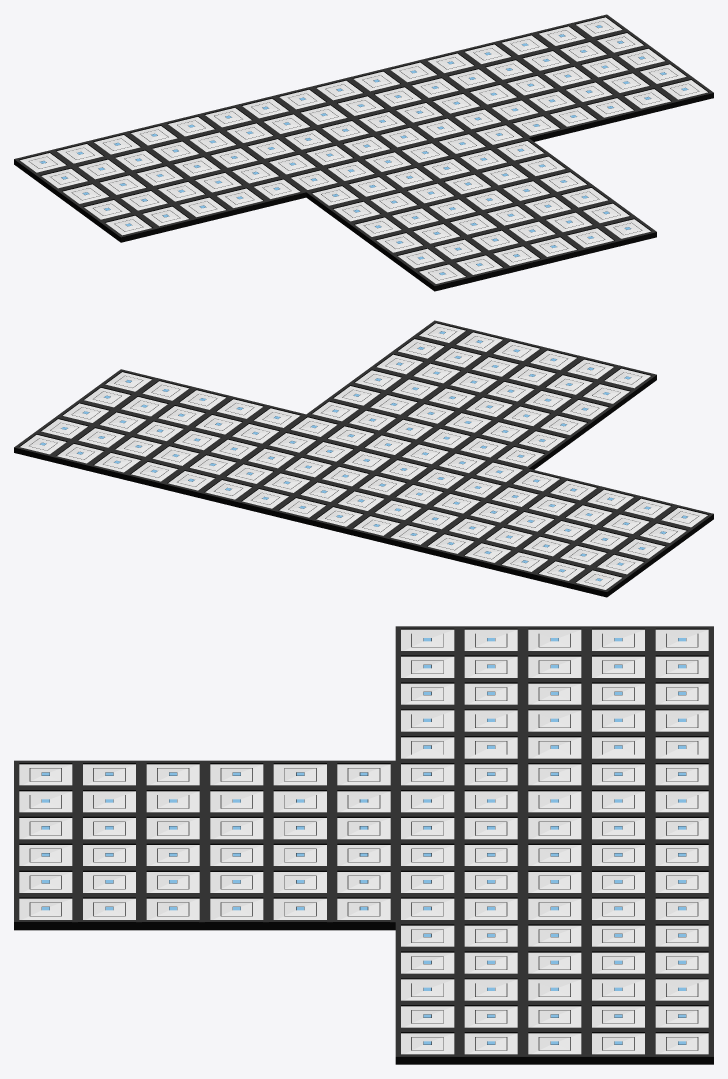
File: Floor3.fbx
The picture shows the model from 3 angles, top to bottom: view 1: azimuth 30°, elevation 25°; view 2: azimuth 150°, elevation 25°; view 3: azimuth 270°, elevation 25°; orthographic projection. The views are drawn at different scales.
Visible parts, largest first — view 1: Plane.005; view 2: Plane.005; view 3: Plane.005.
Boxes of the visible parts, x1,y1,x2,y2 form: Plane.005: [14, 14, 713, 291]; Plane.005: [14, 320, 713, 597]; Plane.005: [14, 626, 713, 1064].
Size of the model in its own units: 64 by 0.5652 by 44.
